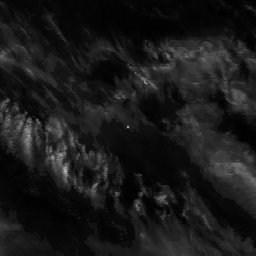Target: (125, 124, 131, 129)
